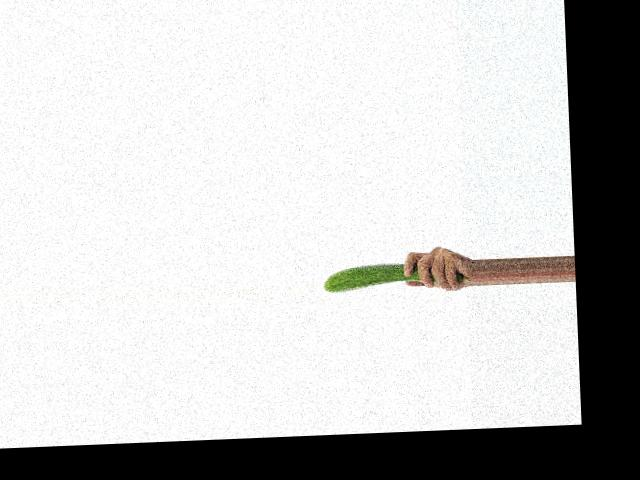cucumber: (322, 260, 469, 293)
